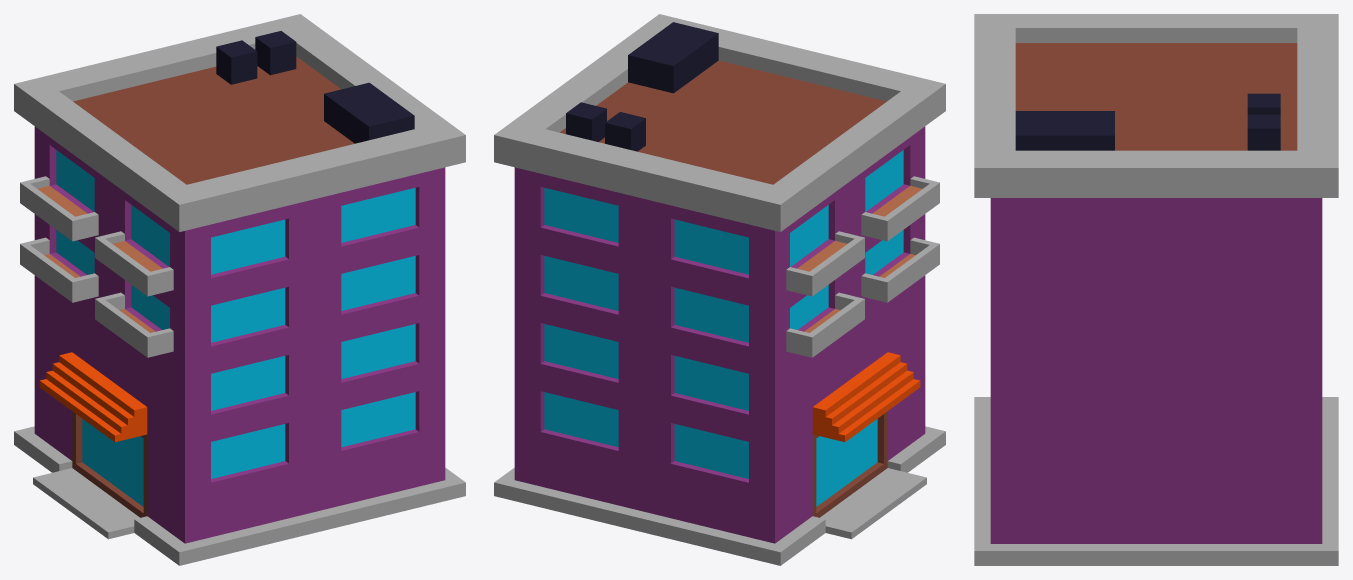
File: House02.obj
The picture shows the model from 3 angles, left to right: view 1: azimuth 30°, elevation 25°; view 2: azimuth 150°, elevation 25°; view 3: azimuth 270°, elevation 25°; orthographic projection. The views are drawn at different scales.
Bounding box in the file's own units: 4.8 × 5.5 × 4.4.
1 material, 1 textured.
